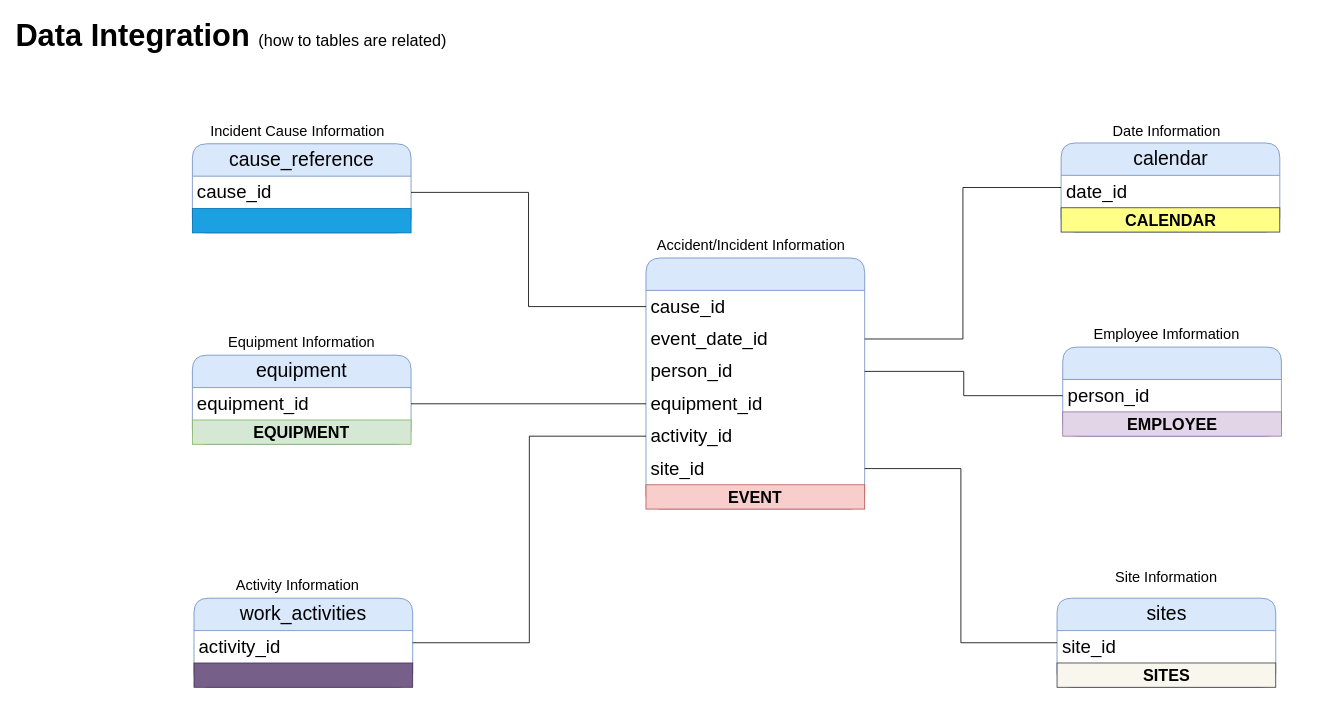
Some shapes in this 1326 by 701 pixel diagram are drawn without their labels. The shapes that lost their labels are listed below. From the top down, each one's box as (x1, y1, x2, y2) in pixels, then its label:
(192, 208, 411, 233): CAUSE
(645, 257, 865, 509): event_records
(1062, 346, 1281, 436): personnel
(193, 662, 413, 687): ACTIVITY
